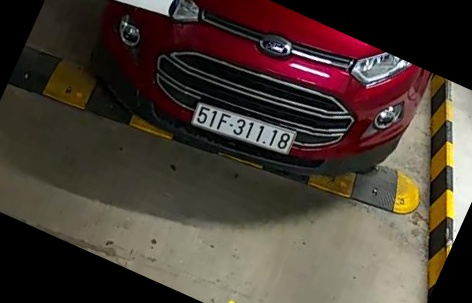plate: (184, 97, 305, 168)
